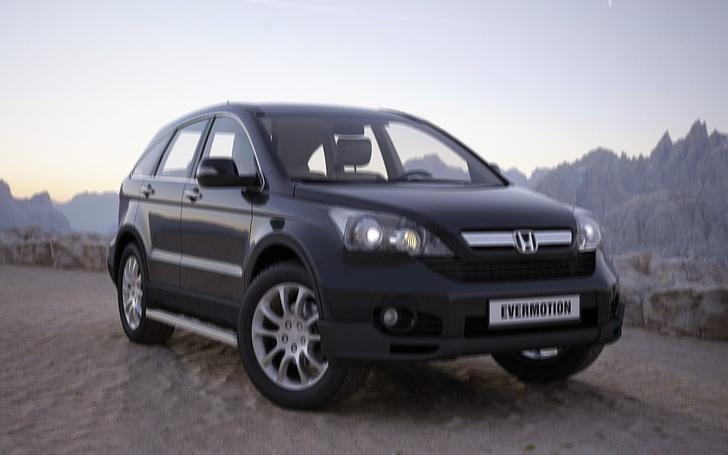Car hood: (292, 178, 586, 233)
Driver-s door - -F-R-: (179, 104, 262, 300)
Fender - -F-R-: (239, 169, 349, 289)
Fender - -R-R-: (106, 172, 149, 235)
Front bumper: (310, 252, 632, 366)
Headlight - -L-: (548, 200, 607, 255)
Headlight - -R-: (323, 198, 464, 260)
Passenger-s door - -R-R-: (133, 104, 202, 289)
Rear bumper: (95, 224, 122, 283)
Side bumper - -R-: (140, 279, 242, 348)
Side mirror - -L-: (484, 159, 508, 188)
Side mirror - -R-: (190, 151, 256, 198)
